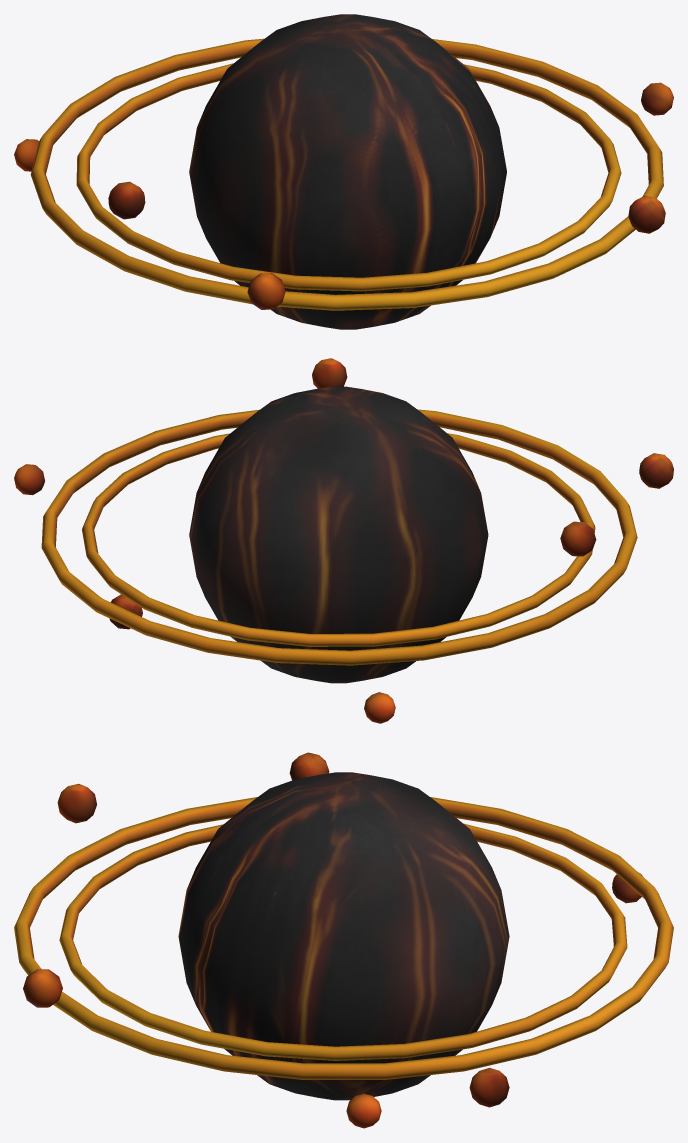
Rendered from Planet_FireVein.fbx.
3 views of the same model, one above another, from view 1: azimuth 30°, elevation 25°; view 2: azimuth 150°, elevation 25°; view 3: azimuth 270°, elevation 25° (orthographic). The views are drawn at different scales.
Visible parts, largest first — view 1: Planet_FireVein, Planet_FireVein_Parts; view 2: Planet_FireVein, Planet_FireVein_Parts; view 3: Planet_FireVein, Planet_FireVein_Parts.
Boxes of the visible parts, x1,y1,x2,y2 form: Planet_FireVein: (14, 14, 673, 329); Planet_FireVein_Parts: (247, 273, 285, 309); Planet_FireVein: (14, 358, 637, 723); Planet_FireVein_Parts: (639, 453, 673, 488); Planet_FireVein: (14, 752, 673, 1128); Planet_FireVein_Parts: (57, 783, 96, 823).
Bounding box in the file's own units: 453 × 205 × 409.
